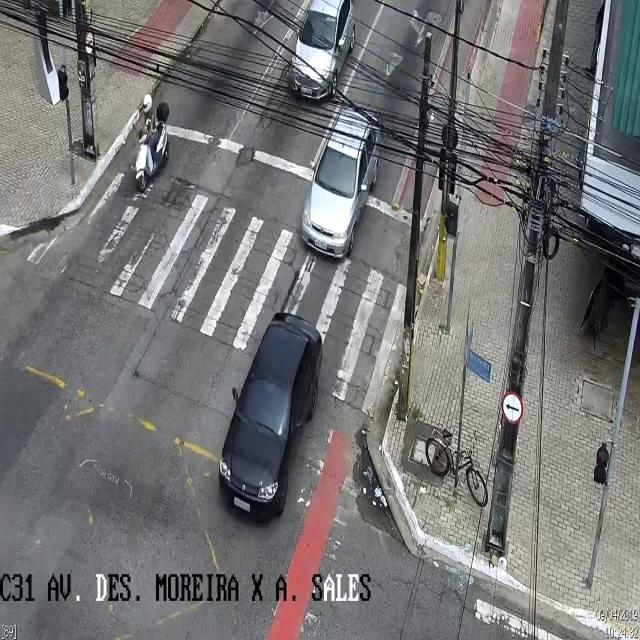Car: (218, 311, 322, 523), (301, 108, 381, 258), (289, 1, 355, 97)
Motorcycle: (133, 93, 169, 191)
